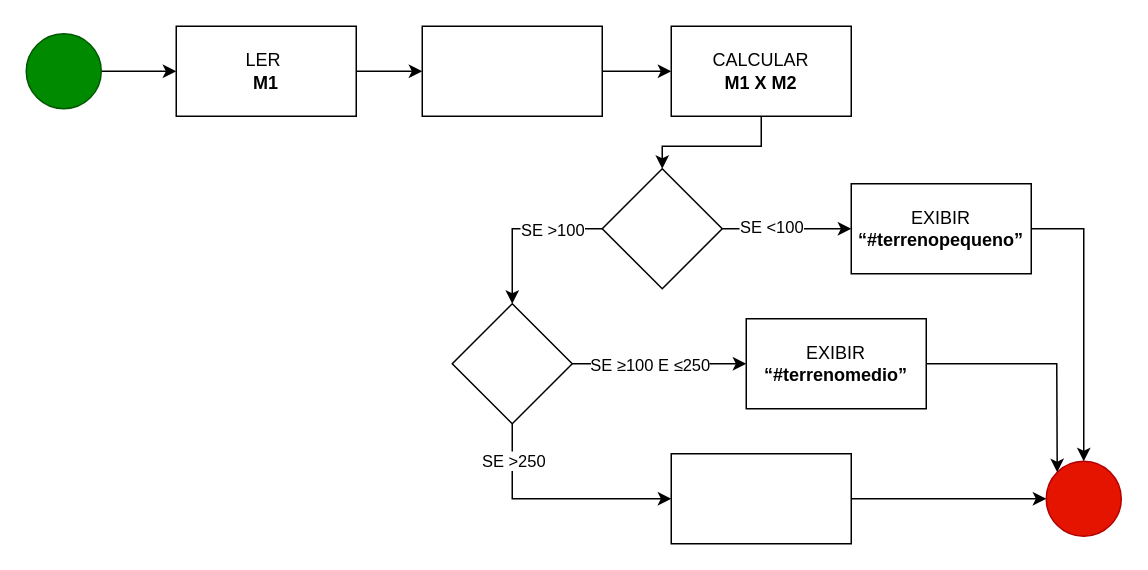
This 1148x570 diagram has some shape labels left out. The shapes that lost their labels are listed below. From the top down, each one's centre as x and y in pixels, then its label:
pixel 511 70: LER M2
pixel 760 498: EXIBIR “#terrenogrande”
